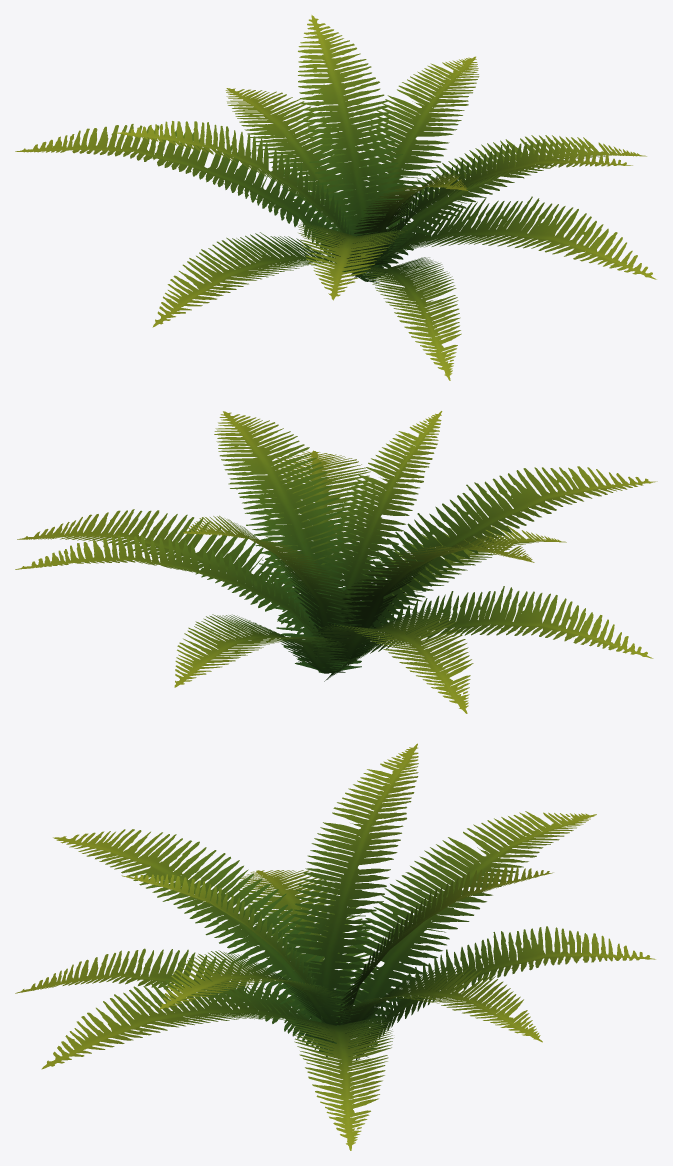
File: SmallTree01.fbx
3 views of the same model, one above another, from view 1: azimuth 30°, elevation 25°; view 2: azimuth 150°, elevation 25°; view 3: azimuth 270°, elevation 25° (orthographic). The views are drawn at different scales.
Parts seen in each view (by area): view 1: SmallTree01; view 2: SmallTree01; view 3: SmallTree01.
Part boxes in pixels (<box>): SmallTree01: <box>15,15,656,380</box>; SmallTree01: <box>15,411,657,713</box>; SmallTree01: <box>15,743,655,1150</box>.
Size of the model in its own units: 21.47 by 7.15 by 20.11.
Materials: 1 (1 with a texture image).
